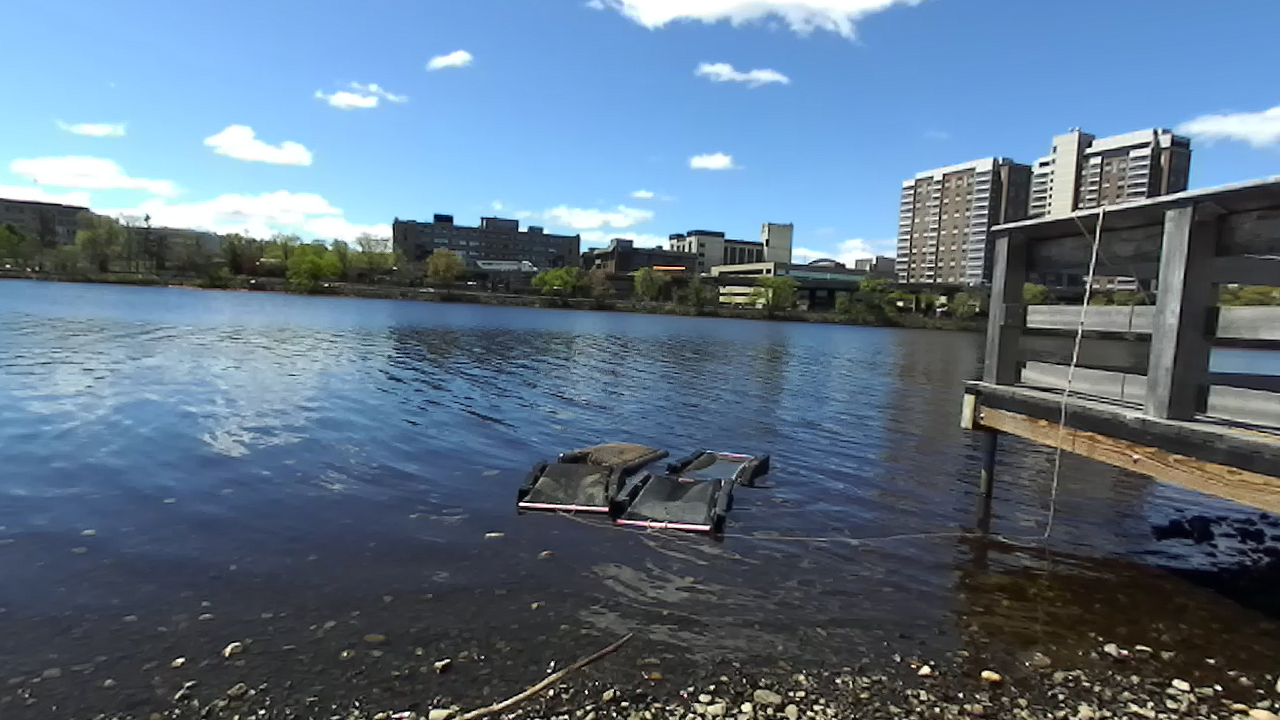bag: (619, 477, 733, 536), (516, 463, 618, 516), (666, 447, 772, 487), (560, 440, 671, 471)
